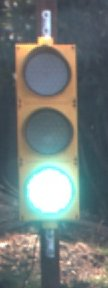Green: (8, 16, 79, 242)
